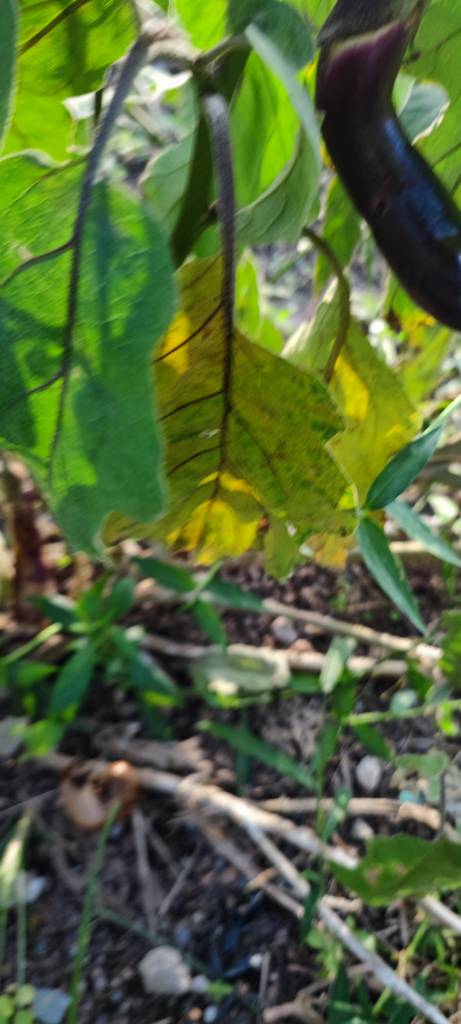Pepper yellow leaf: (129, 253, 319, 596), (284, 309, 421, 574)
